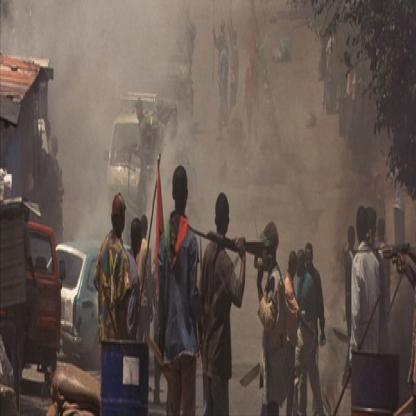Gun: (188, 220, 265, 264), (352, 238, 416, 276)
